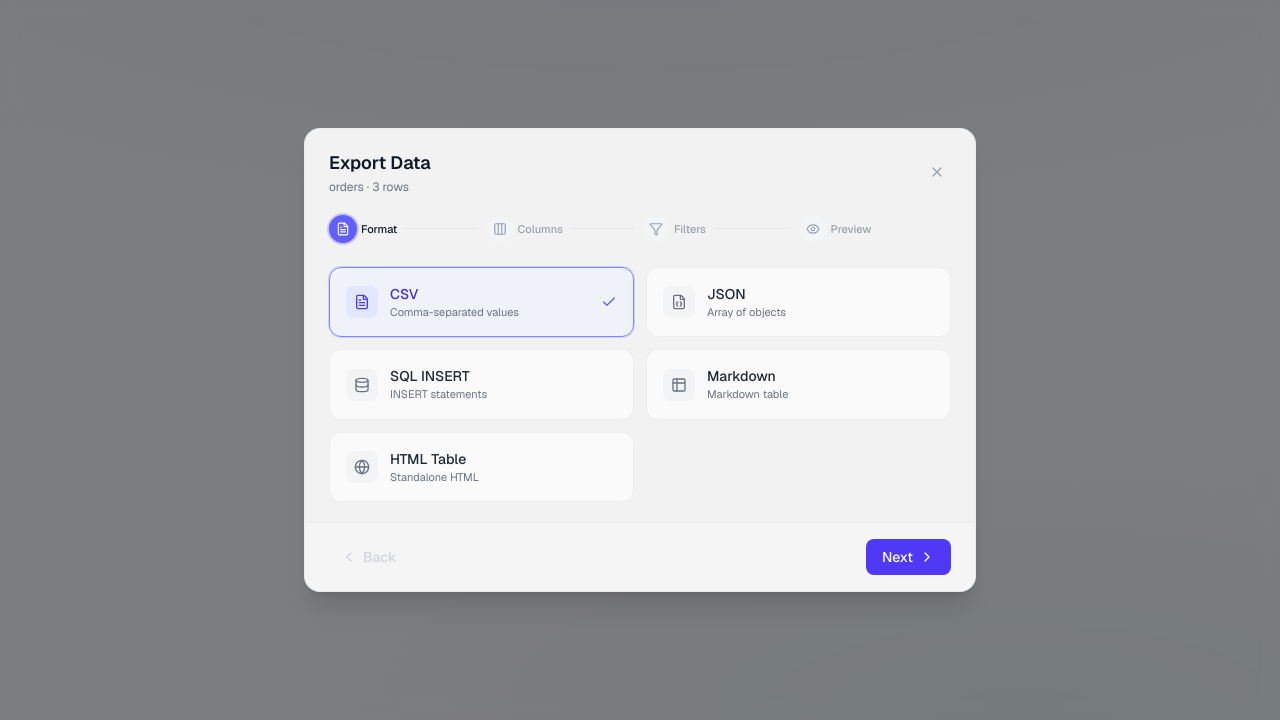
ExportWizard › shows an empty preview state when no rows match the filters
Click the button "Next" at [908, 557], box x1=866 y1=539 x2=951 y2=575
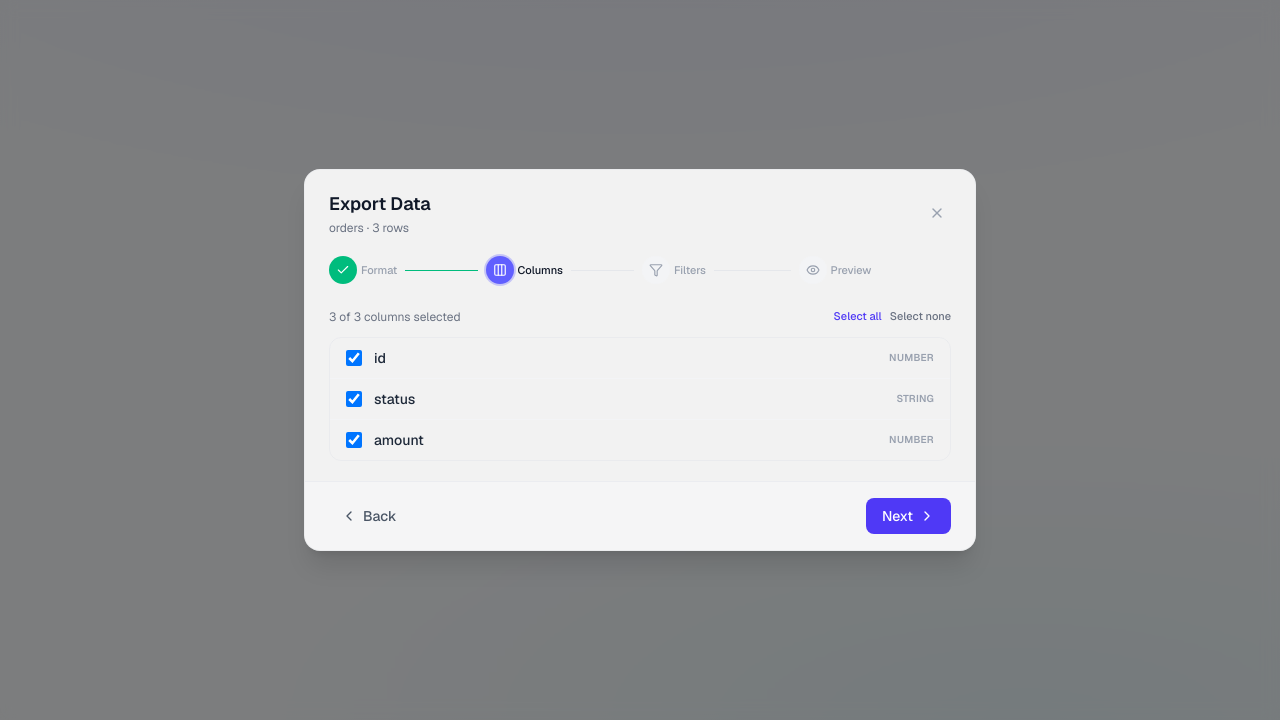
Check: the text "3 of 3 columns selected" is shown, box x1=329 y1=308 x2=461 y2=324
Click the button "Next" at [908, 516], box x1=866 y1=498 x2=951 y2=534
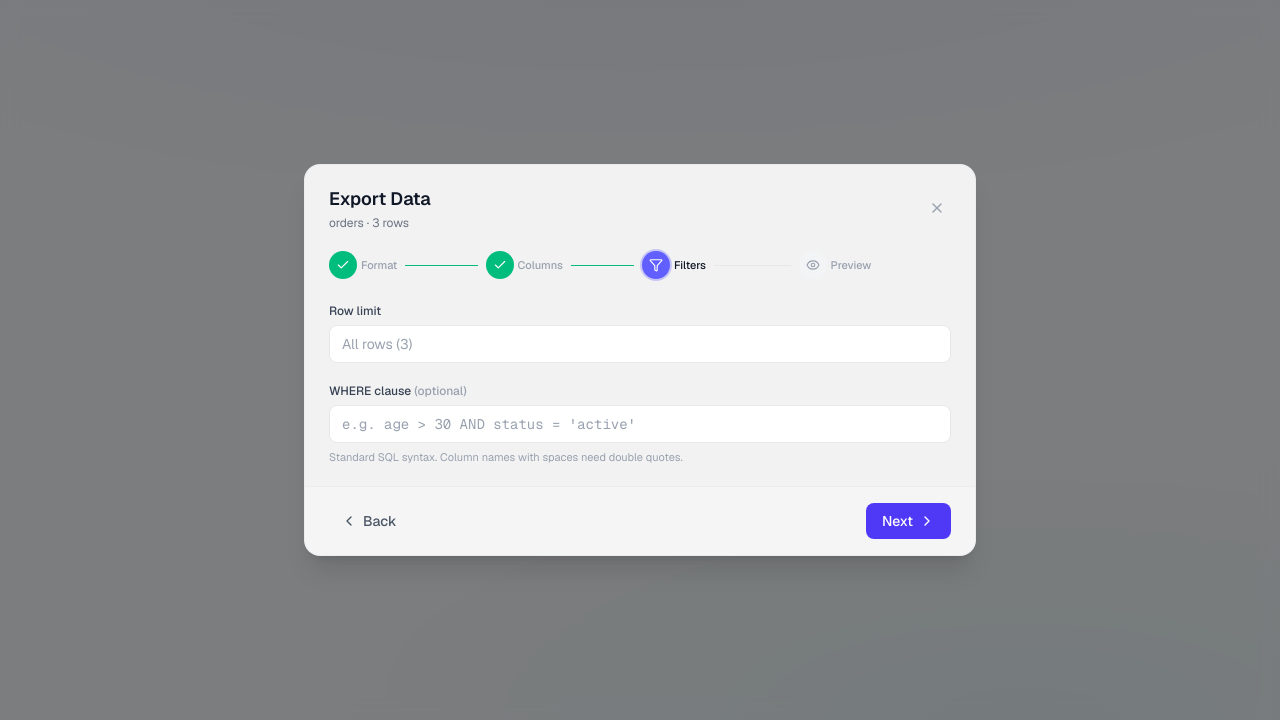
Check: the text "Row limit" is shown, box x1=329 y1=303 x2=381 y2=319
Click the button "Next" at [908, 521], box x1=866 y1=503 x2=951 y2=539
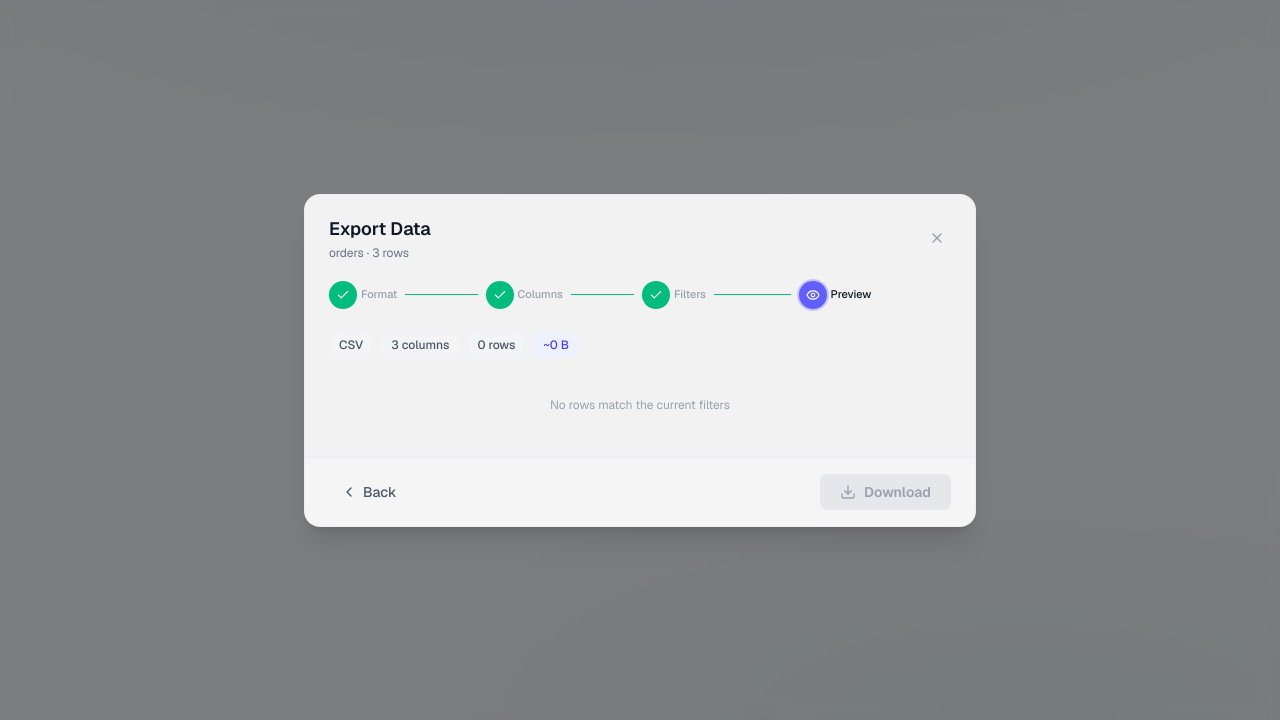
Check: the text "No rows match the current filters" is shown, box x1=550 y1=396 x2=730 y2=412
Check: the button "Download" is disabled, box x1=820 y1=474 x2=951 y2=510
